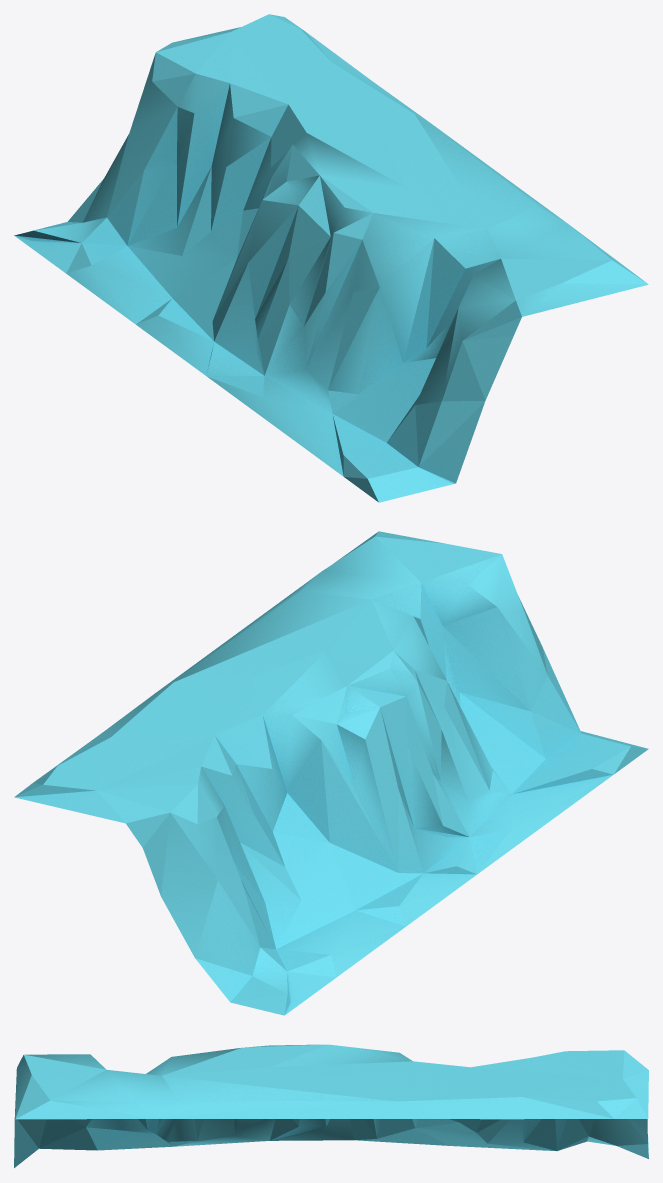
File: Cliff_2.glb
3 renders of one model, top to bottom at view 1: azimuth 30°, elevation 25°; view 2: azimuth 150°, elevation 25°; view 3: azimuth 270°, elevation 25°, orthographic. The views are drawn at different scales.
Visible parts, largest first — view 1: SM_Env_Cliff_Straight_01; view 2: SM_Env_Cliff_Straight_01; view 3: SM_Env_Cliff_Straight_01.
Part boxes in pixels (x1,y1,x2,y2): SM_Env_Cliff_Straight_01: (14, 14, 648, 502); SM_Env_Cliff_Straight_01: (14, 531, 648, 1015); SM_Env_Cliff_Straight_01: (14, 1044, 648, 1167).
Size of the model in its own units: 16.2 by 9.47 by 37.8.
Materials: 1 (1 with a texture image).
